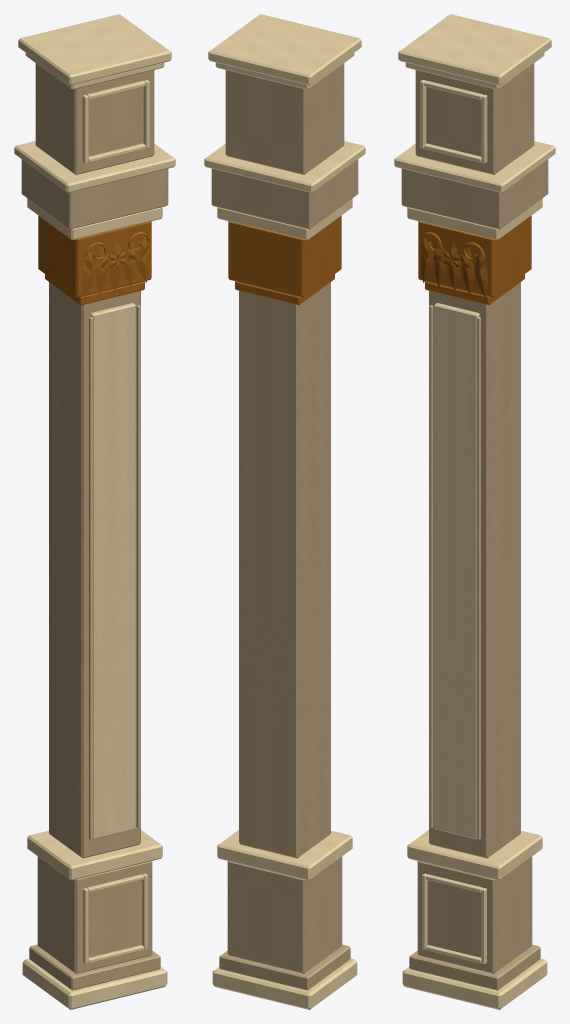
Rendered from PMU_Pilier_Orne.glb.
3 views of the same model, side by side, from view 1: azimuth 30°, elevation 25°; view 2: azimuth 150°, elevation 25°; view 3: azimuth 330°, elevation 25° (orthographic).
Visible parts, largest first — view 1: PMU_Pilier_Orne; view 2: PMU_Pilier_Orne; view 3: PMU_Pilier_Orne.
Boxes of the visible parts, left/top/right/bottom form: PMU_Pilier_Orne: left=14, top=14, right=175, bottom=1009; PMU_Pilier_Orne: left=204, top=14, right=365, bottom=1009; PMU_Pilier_Orne: left=394, top=14, right=555, bottom=1009.
Bounding box in the file's own units: 3.48 × 28.53 × 2.97.
Materials: 1 (1 with a texture image).
